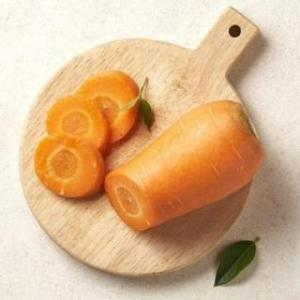carrot: (101, 99, 266, 233)
